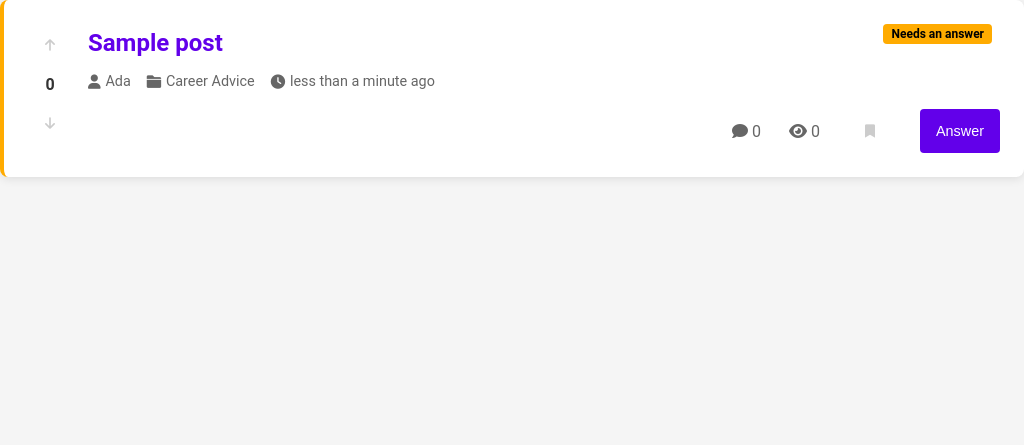
Test: PostItem answer composer › leaves the draft intact and surfaces an alert when submitting fails
The width and height of the screenshot is (1024, 445).
Click the button "Answer". click: {"x": 960, "y": 131}
box: [920,109,1000,153]
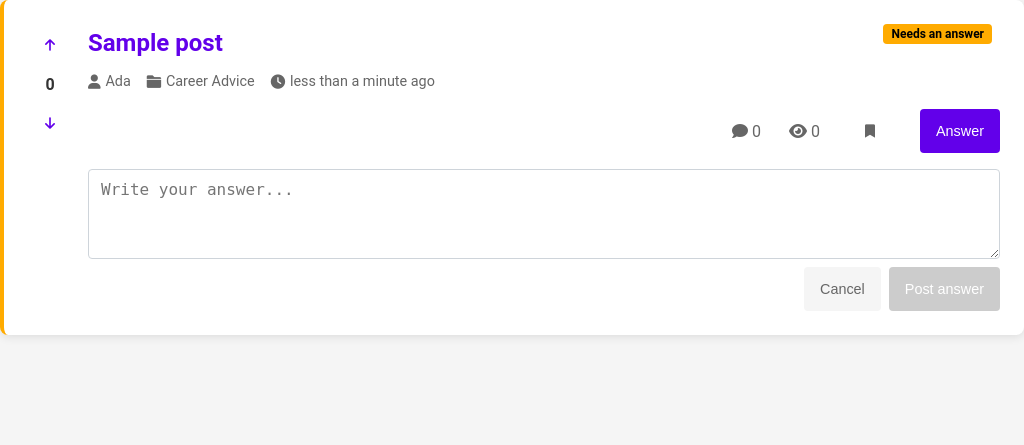
Type "My answer" into the text box with placeholder "Write your answer...". click: {"x": 544, "y": 214}
box: [88,169,1000,259]
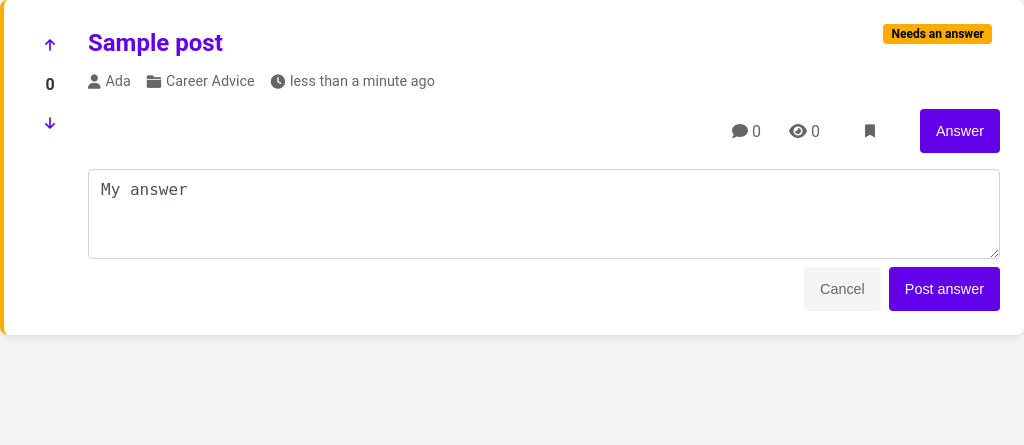
Click the button "Post answer". click: {"x": 944, "y": 289}
box: [889,267,1000,311]
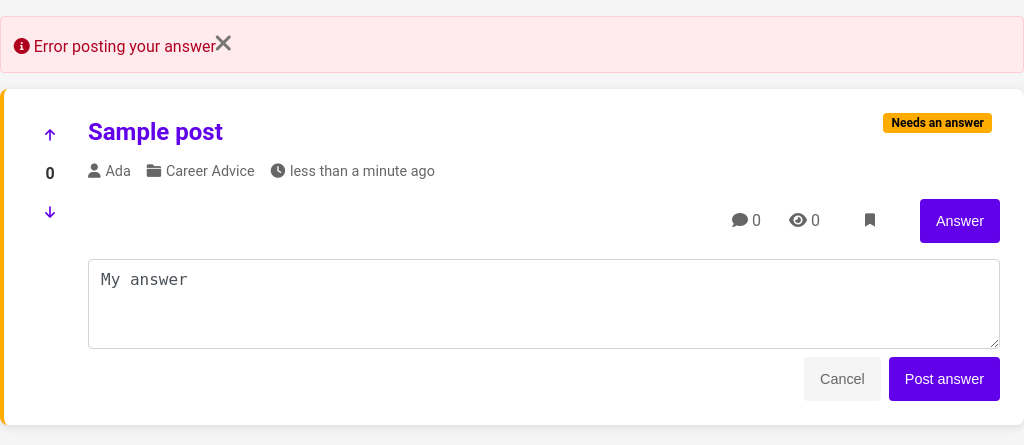
Expected: the text "Error posting your answer" is shown, [0,16,1023,73]
